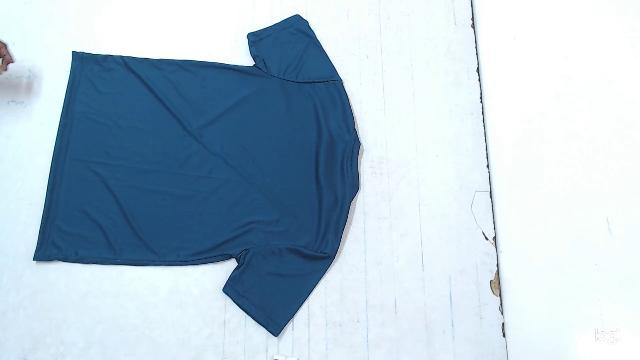new-garment: (33, 15, 360, 336)
